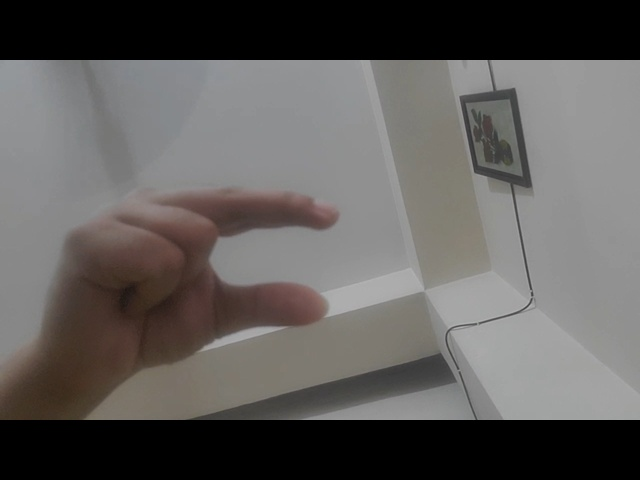No: (18, 159, 354, 398)
